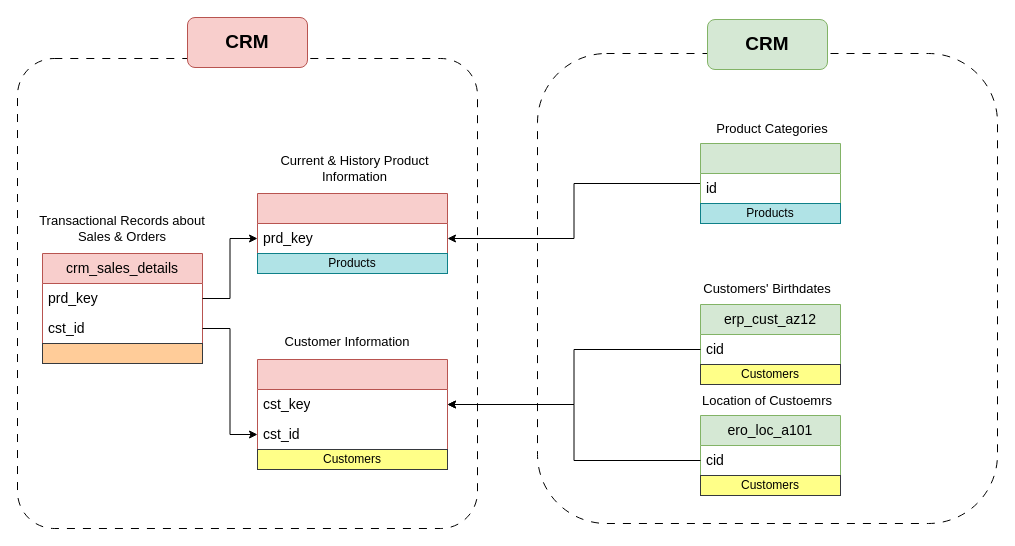
This 1015x546 diagram has some shape labels left out. The shapes that lost their labels are listed below. From the top down, each one's box as (x1, y1, x2, y2) in pixels, then its label:
(700, 142, 840, 224): erp_px_cat_g1v2
(256, 192, 448, 274): crm_prd_info
(42, 342, 202, 364): Sales
(256, 358, 448, 470): crm_cust_info
